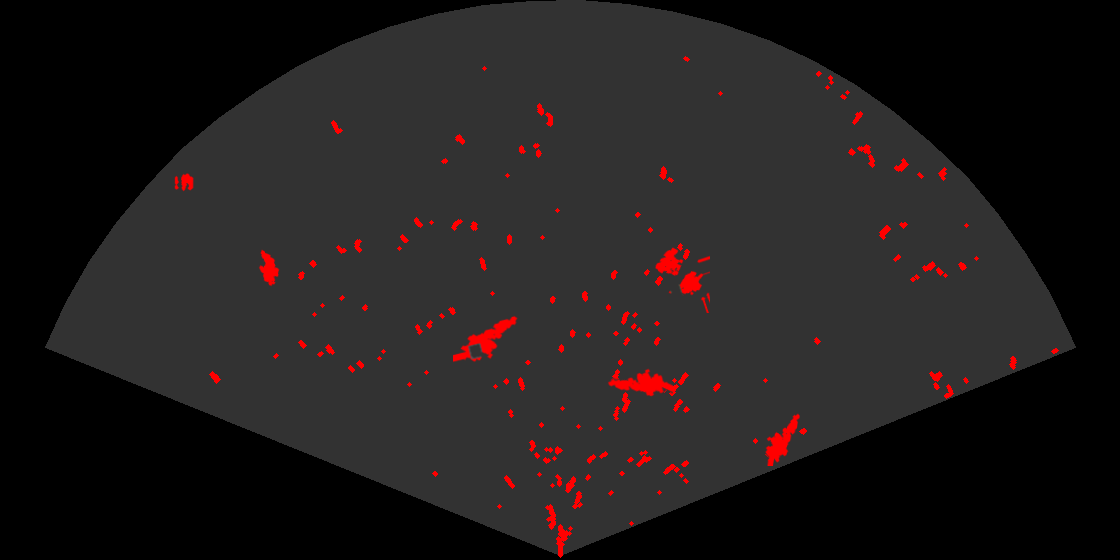AUV: (257, 248, 281, 288)
ball: (173, 172, 194, 193)
cage: (654, 246, 710, 313)
frogman: (453, 314, 520, 364), (606, 367, 673, 398), (764, 412, 801, 466)
